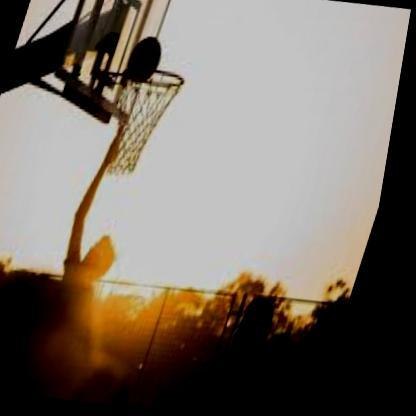basketball: (124, 35, 169, 89)
rim: (121, 61, 196, 97)
